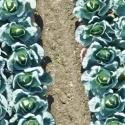cabbage: (9, 23, 26, 37), (98, 70, 112, 84), (98, 49, 113, 62), (1, 0, 17, 12), (91, 24, 105, 36), (17, 74, 32, 85), (106, 94, 118, 107), (86, 0, 101, 10), (21, 99, 33, 111), (17, 51, 28, 64), (26, 119, 38, 125), (108, 120, 120, 125)
